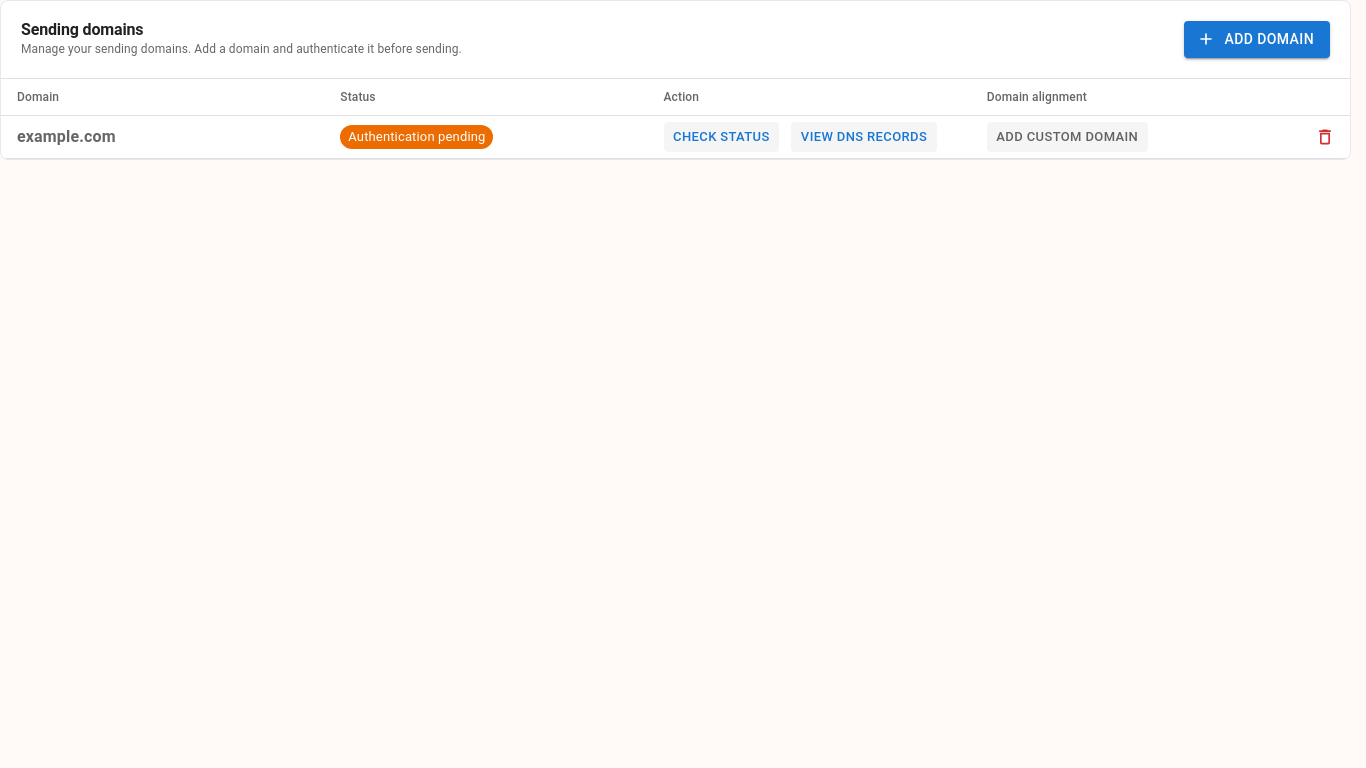
Removing a domain › asks for confirmation, deletes and reloads
This screenshot has width=1366, height=768.
Click the button named "Remove". click: (1325, 137)
box: [1310,122,1340,152]
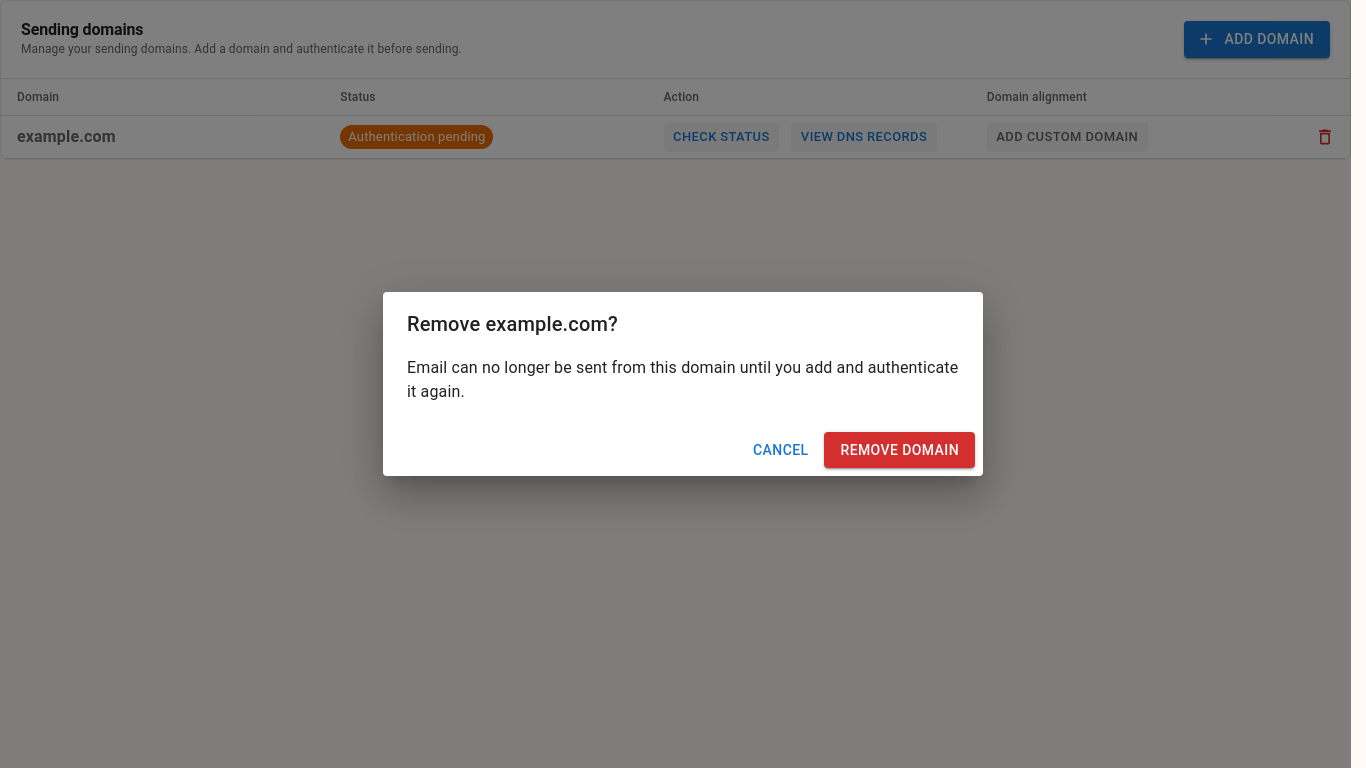
expect the heading "Remove example.com?" is shown: met, box [407,312,618,336]
Click the button "Remove domain". click: (900, 450)
box: [824,432,975,468]
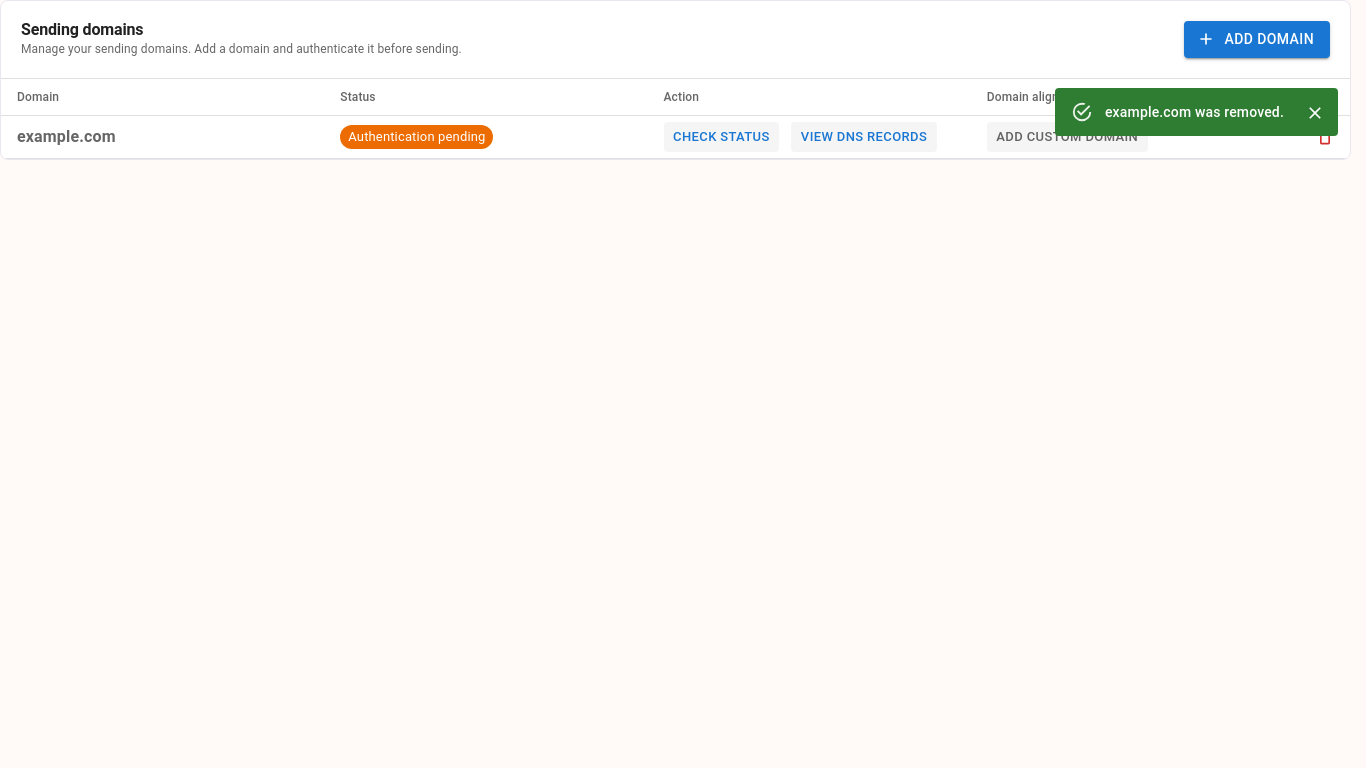
expect the text "example.com was removed." is shown: met, box [1105,104,1284,120]
